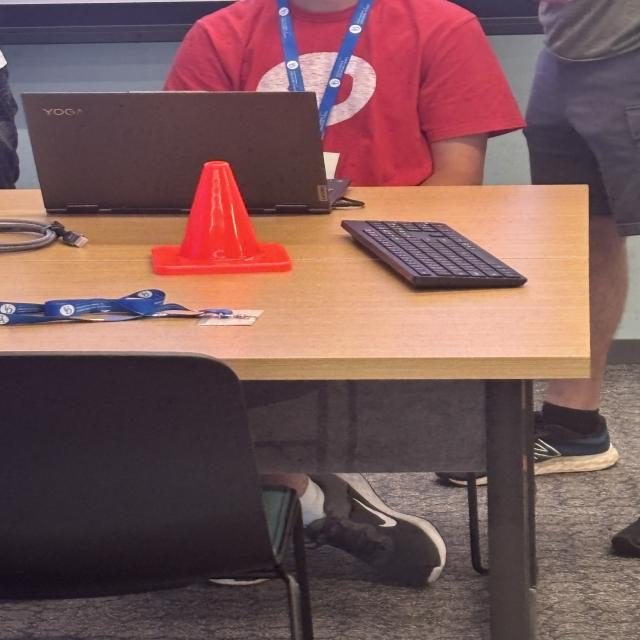Traffic Cone: (146, 157, 294, 279)
